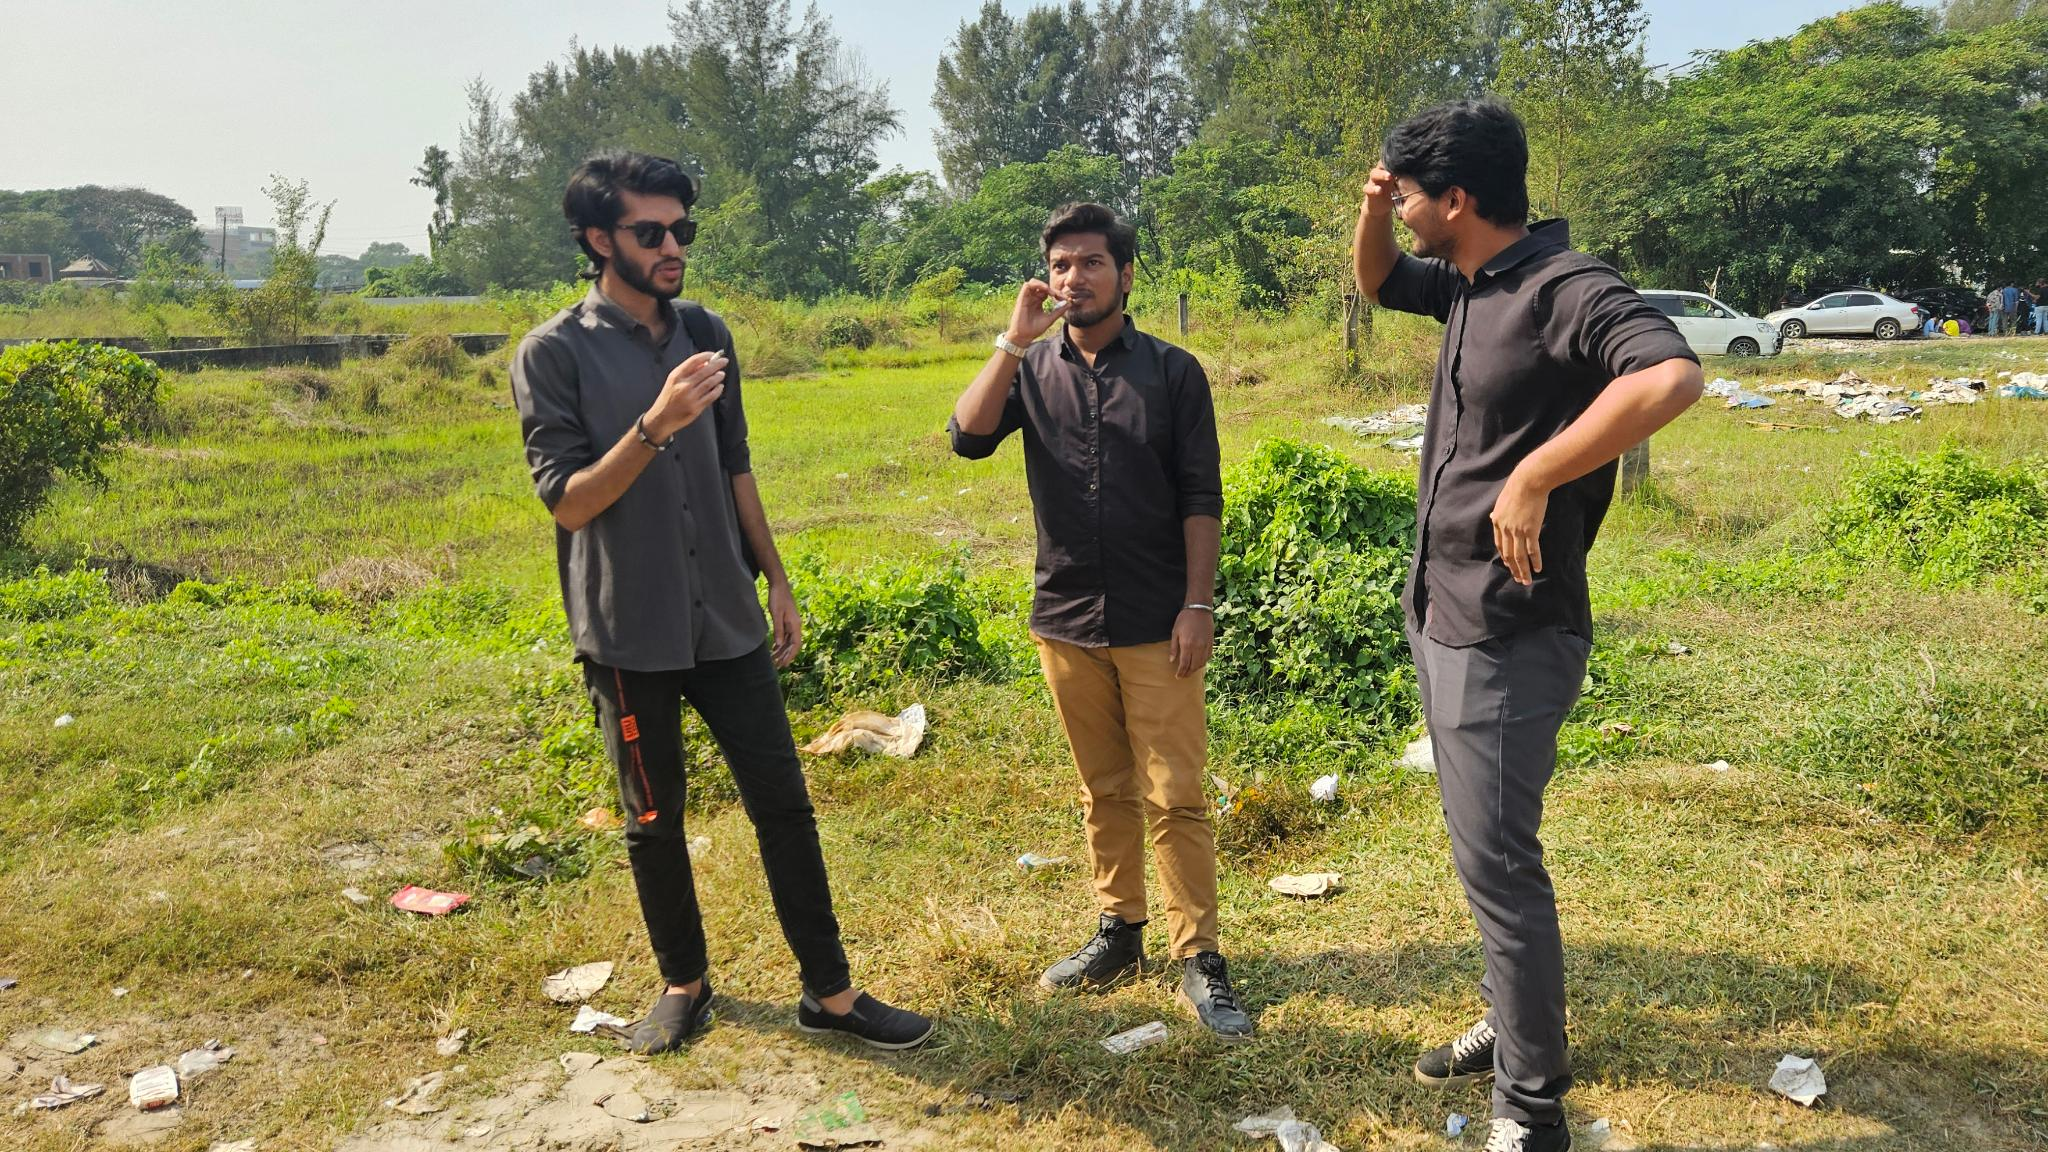cigarette: (703, 347, 726, 367), (1052, 295, 1073, 309)
nonSmoker: (1352, 97, 1706, 1152)
smoker: (509, 152, 934, 1062), (945, 201, 1255, 1044)
